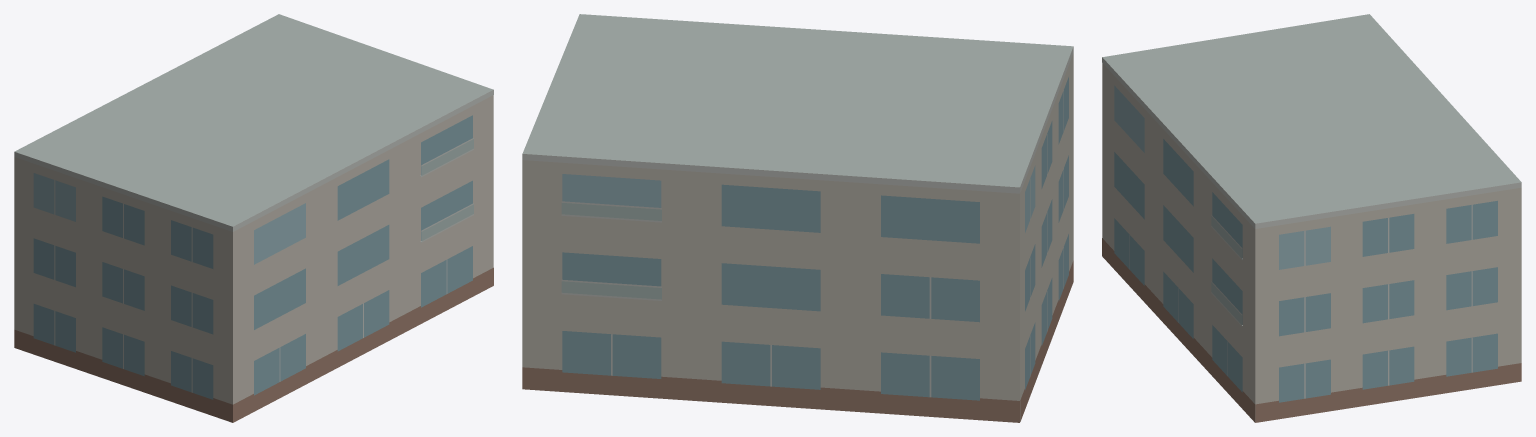
Rendered from survey-upis-32866915.glb.
3 views of the same model, side by side, from view 1: azimuth 30°, elevation 25°; view 2: azimuth 150°, elevation 25°; view 3: azimuth 270°, elevation 25° (orthographic). The views are drawn at different scales.
Parts seen in each view (by area): view 1: survey-upis-32866915.tmp; view 2: survey-upis-32866915.tmp; view 3: survey-upis-32866915.tmp.
Boxes of the visible parts, x1,y1,x2,y2 form: survey-upis-32866915.tmp: [14, 14, 493, 422]; survey-upis-32866915.tmp: [522, 14, 1073, 422]; survey-upis-32866915.tmp: [1102, 14, 1521, 422].
Bounding box in the file's own units: 20.67 × 9.15 × 17.48.
